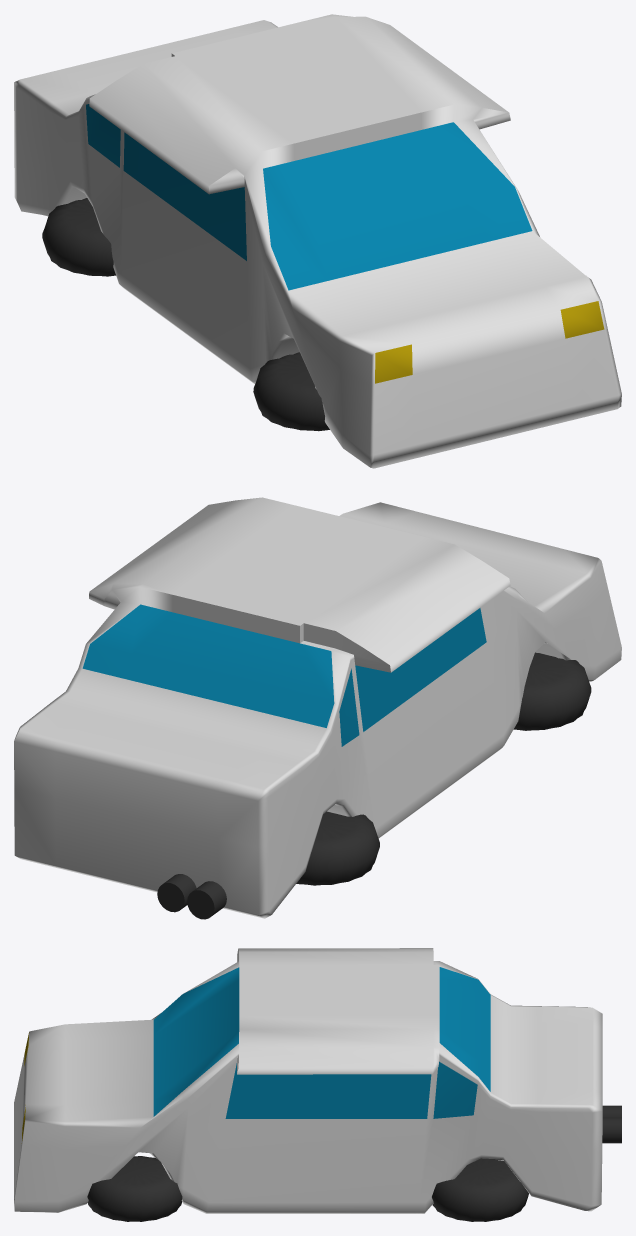
File: BasicCar (2).fbx
The picture shows the model from 3 angles, top to bottom: view 1: azimuth 30°, elevation 25°; view 2: azimuth 150°, elevation 25°; view 3: azimuth 270°, elevation 25°; orthographic projection. The views are drawn at different scales.
Visible parts, largest first — view 1: polySurface5; view 2: polySurface5, pCylinder7, pCylinder6; view 3: polySurface5, pCylinder6.
Part boxes in pixels (x1,y1,x2,y2): polySurface5: [14, 14, 621, 468]; polySurface5: [14, 497, 621, 918]; pCylinder7: [187, 881, 226, 919]; pCylinder6: [157, 874, 196, 912]; polySurface5: [14, 948, 602, 1221]; pCylinder6: [602, 1117, 621, 1143].
Size of the model in its own units: 2.42 by 1.53 by 4.84.
